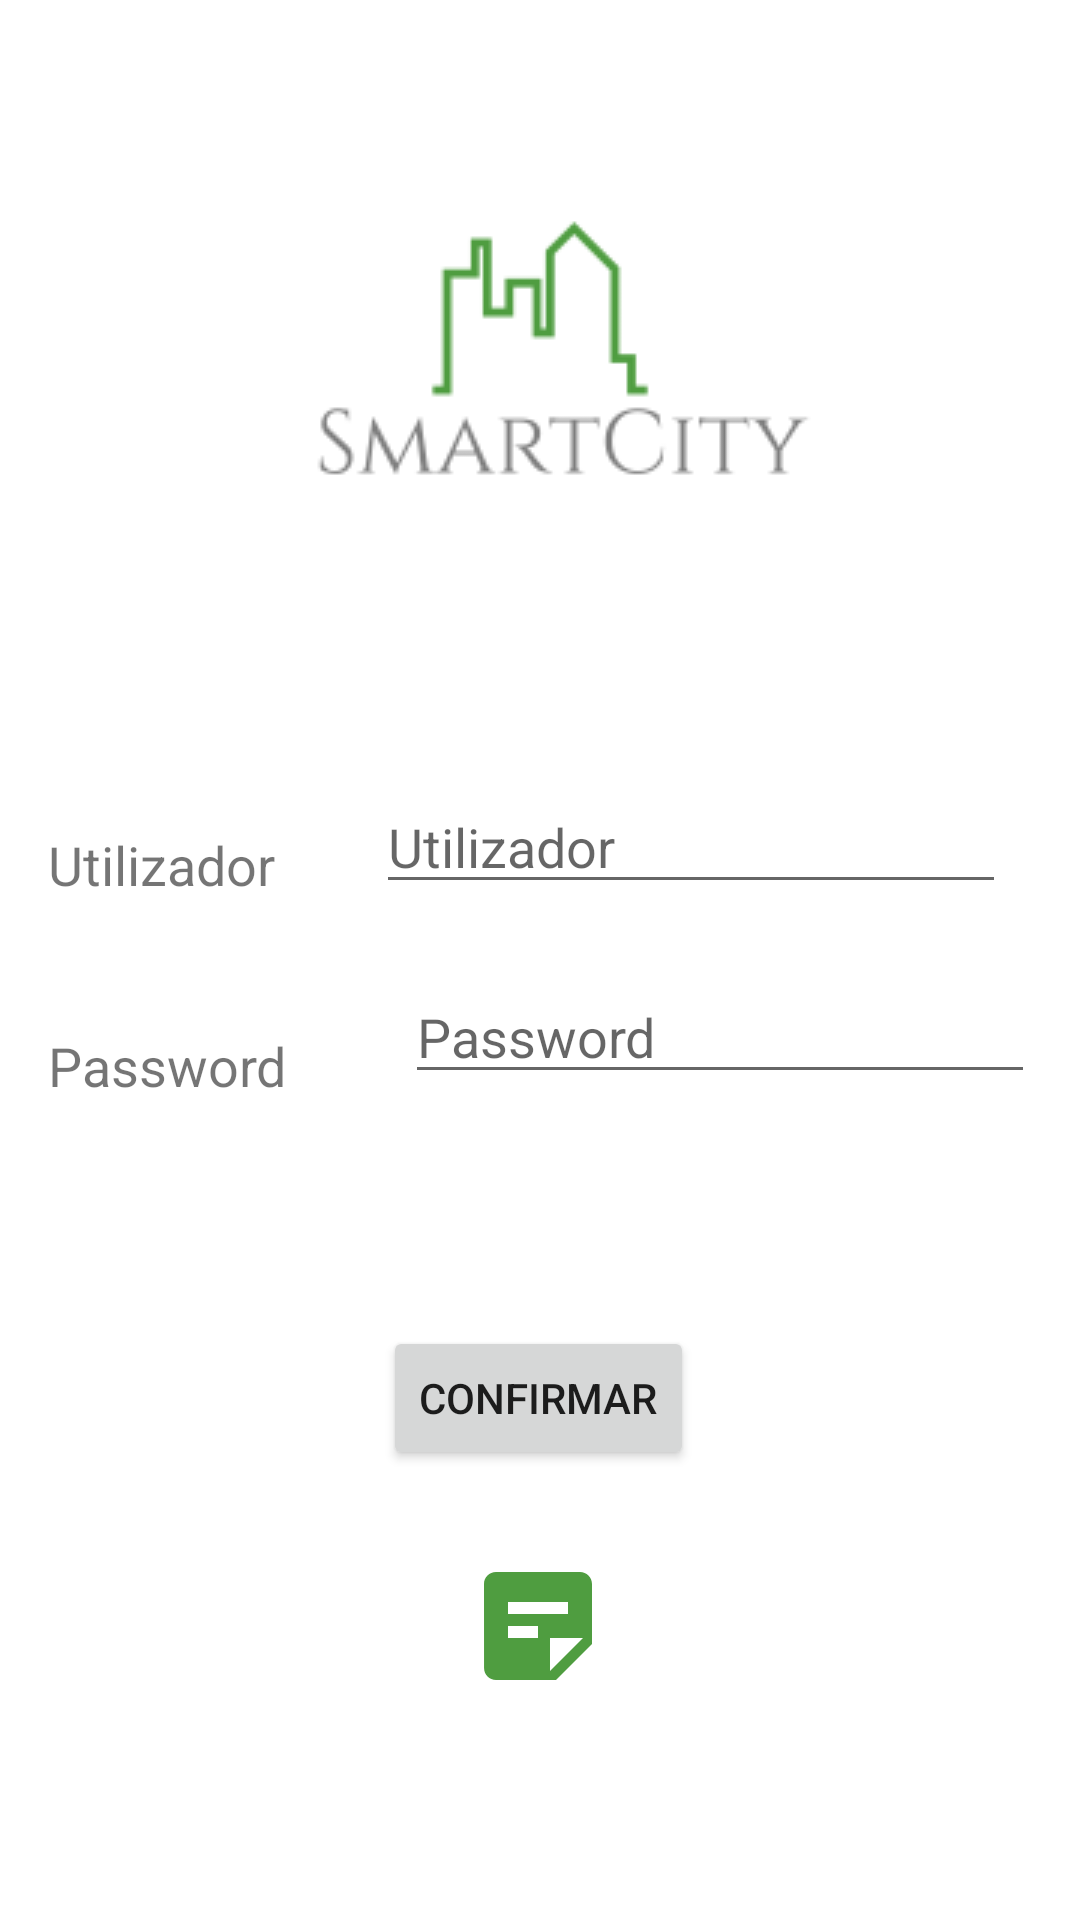

Icons on this 1080 x 1920 Android screen, each with its box as (x1, y1, x2, y2):
sticky note: (484, 1572, 592, 1680)
